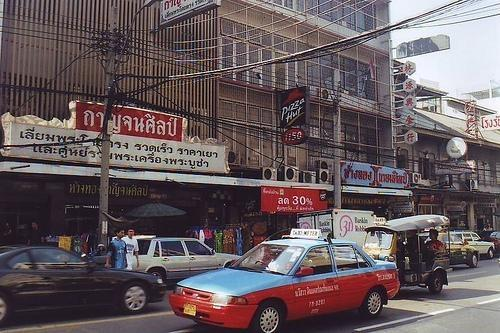car: (173, 229, 400, 333), (0, 244, 166, 326), (132, 237, 240, 279), (439, 228, 483, 265), (450, 230, 494, 260), (479, 231, 500, 254)
